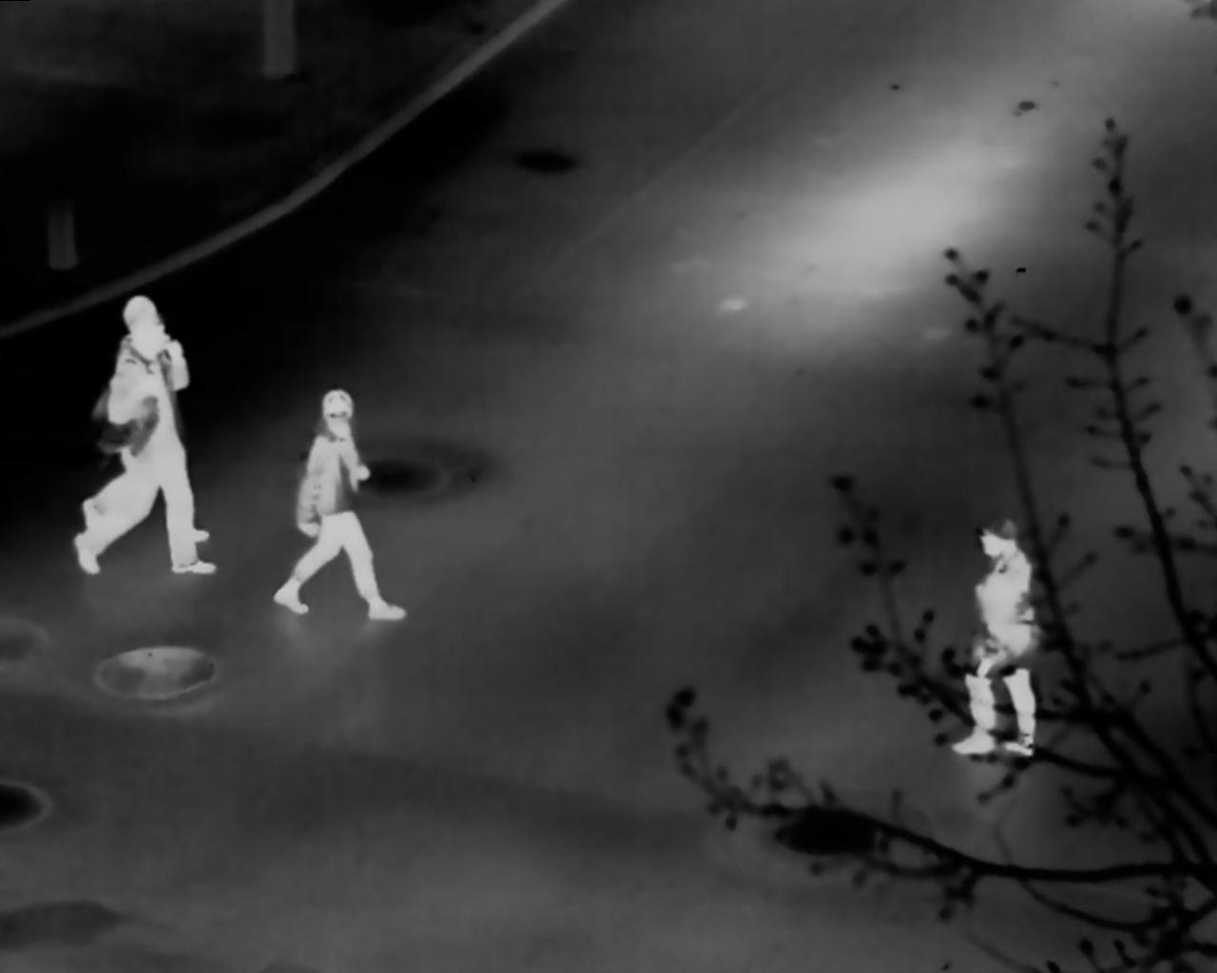person: (74, 319, 221, 577), (270, 388, 409, 620), (947, 518, 1039, 759)
